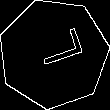L_W: (25, 31, 82, 77)
